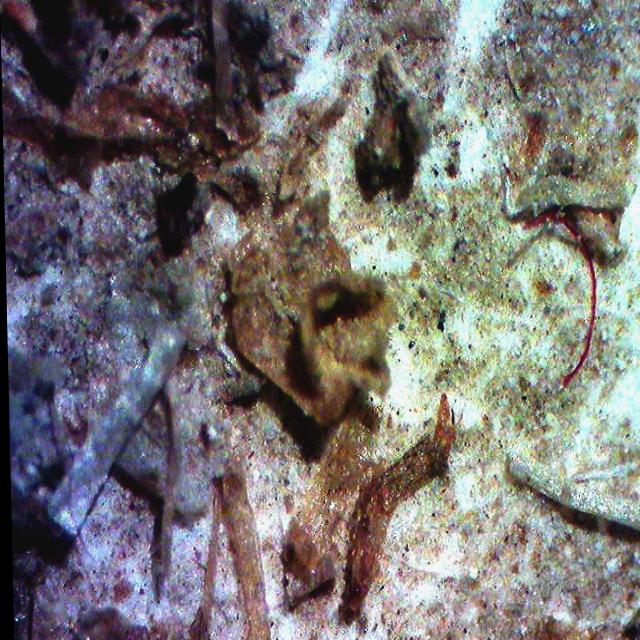microplastic: (524, 212, 595, 386)
